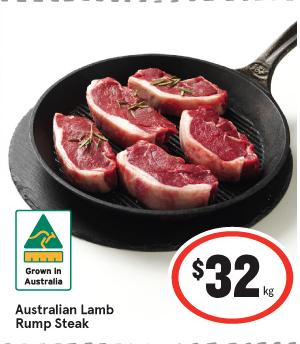description_block: (9, 296, 116, 338)
price_main: (153, 224, 291, 320)
product_image_block: (19, 22, 291, 240)
